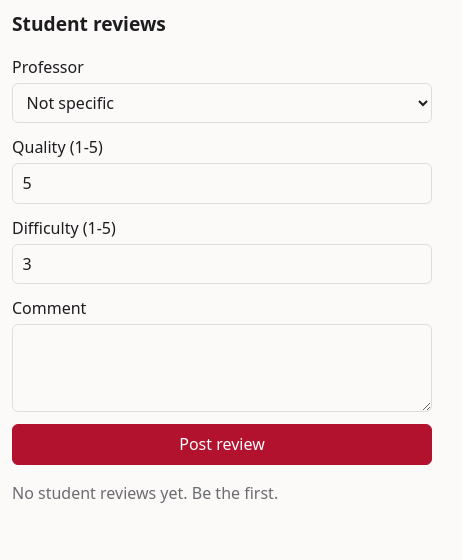
Test: Reviews › rejects scores outside 1 to 5 without calling Supabase
The image size is (462, 560).
Expected: the text "No student reviews yet. Be the first." is shown, [12, 482, 278, 504]
Step 1. Clear the number field labelled "Quality (1-5)" → (222, 183), box [12, 163, 432, 204]
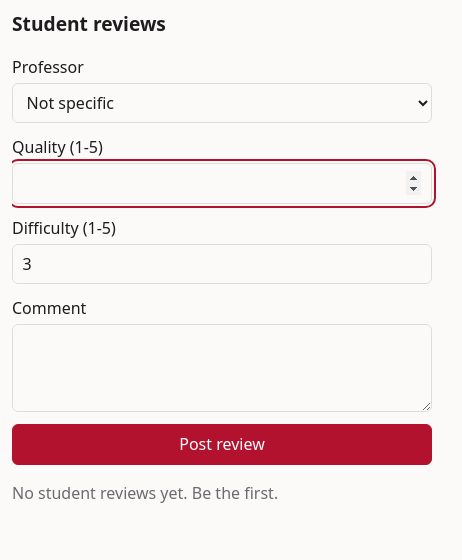
Step 2. Click the button "Post review" → (222, 444), box [12, 424, 432, 465]
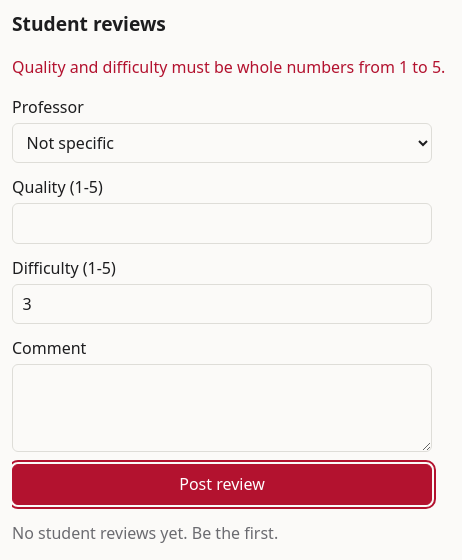
Now the text "Quality and difficulty must be whole numbers from 1 to 5." is shown, box [12, 56, 445, 78]
